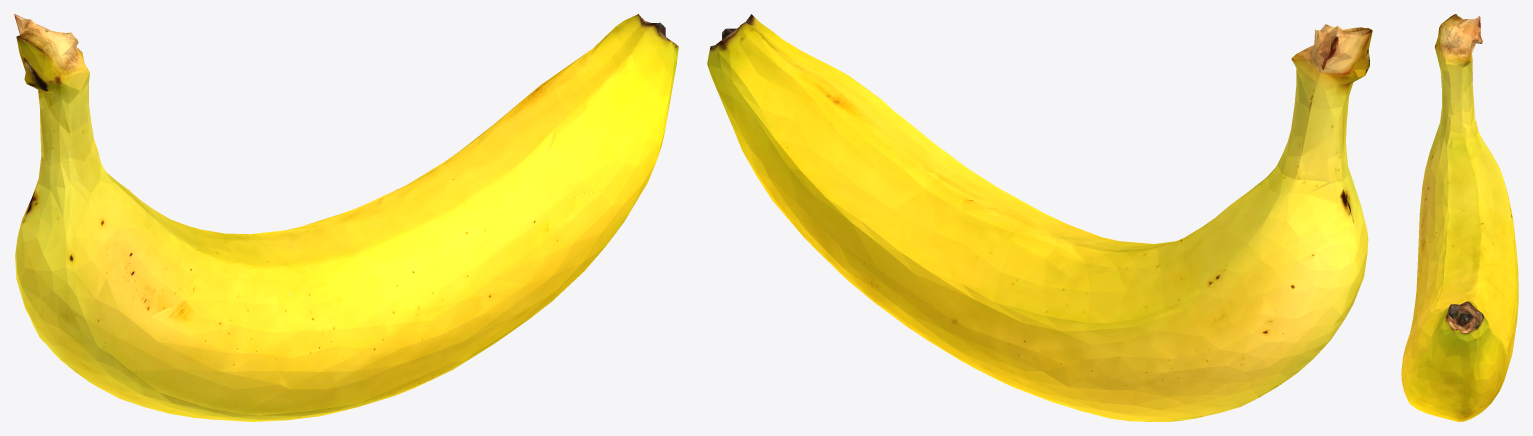
The model's file is banana-transformed.glb.
3 views of the same model, side by side, from view 1: azimuth 30°, elevation 25°; view 2: azimuth 150°, elevation 25°; view 3: azimuth 270°, elevation 25° (orthographic). The views are drawn at different scales.
Visible parts, largest first — view 1: banana; view 2: banana; view 3: banana.
Part boxes in pixels (<box>): banana: <box>14,14,678,421</box>; banana: <box>707,14,1372,421</box>; banana: <box>1401,14,1518,421</box>.
Bounding box in the file's own units: 6.79 × 4.43 × 1.62.
Materials: 1 (1 with a texture image).
